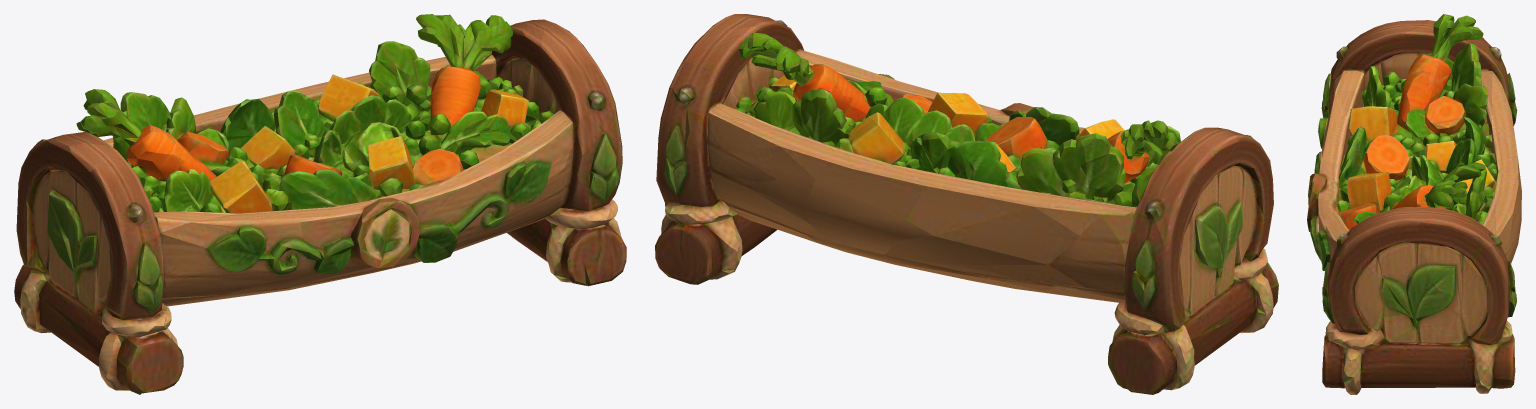
File: harvest-cradle.glb
3 views of the same model, side by side, from view 1: azimuth 30°, elevation 25°; view 2: azimuth 150°, elevation 25°; view 3: azimuth 270°, elevation 25° (orthographic). The views are drawn at different scales.
Visible parts, largest first — view 1: output_unwrapped; view 2: output_unwrapped; view 3: output_unwrapped.
Part boxes in pixels (bbox=[...]): output_unwrapped: bbox=[14, 14, 626, 394]; output_unwrapped: bbox=[655, 14, 1278, 394]; output_unwrapped: bbox=[1307, 14, 1521, 394].
Size of the model in its own units: 1.9 by 0.849 by 0.8152.
Materials: 1 (1 with a texture image).
